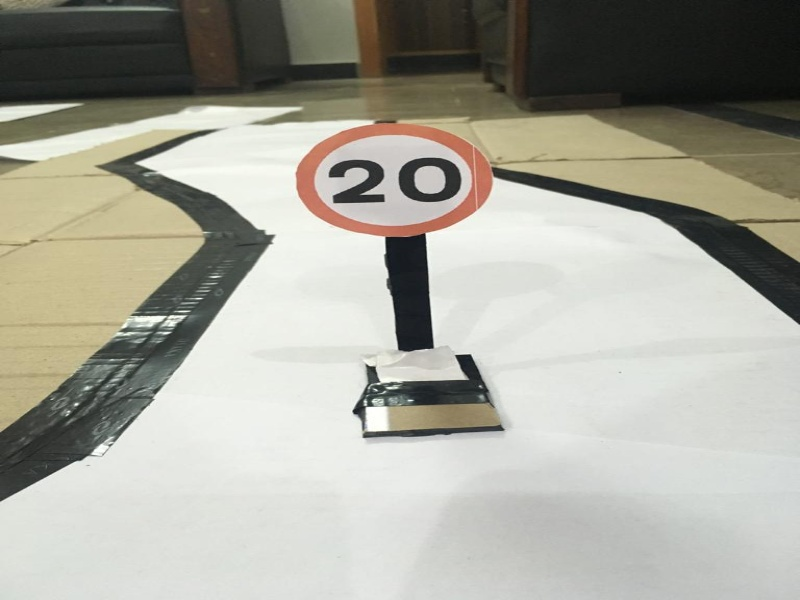Speed Limit 20: (295, 124, 499, 238)
